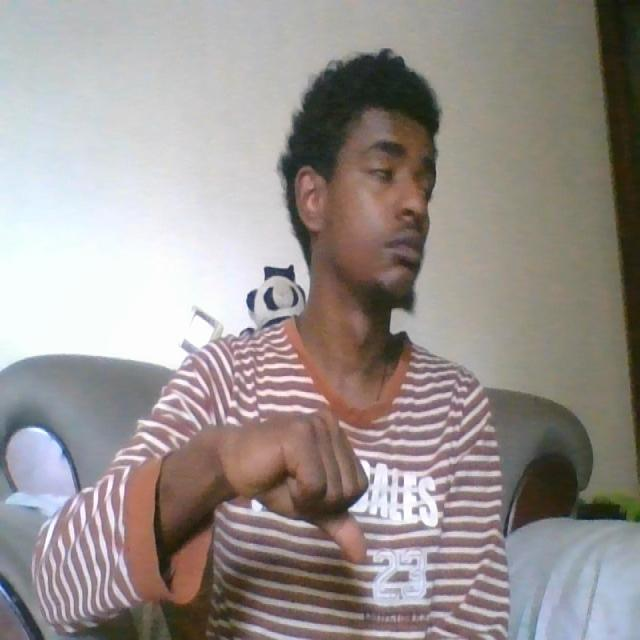injera: (207, 419, 382, 568)
